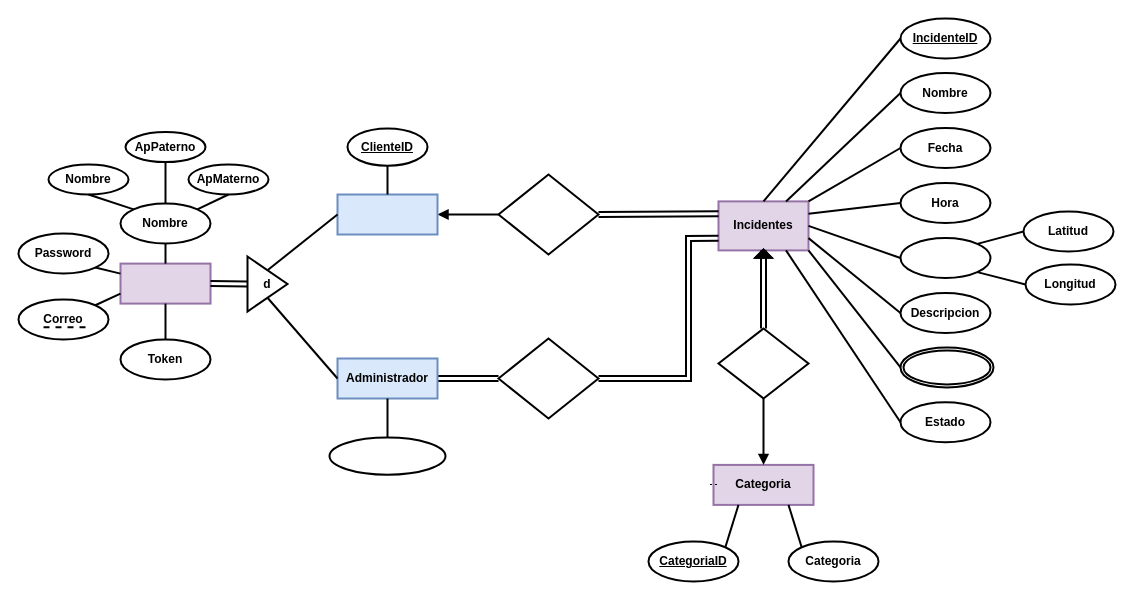
Some shapes in this 1133 by 599 pixel diagram are drawn without their labels. The shapes that lost their labels are listed below. From the top down, each one's centre as x and y in pixels, then its label:
At pixel 387 214: "Cliente".
At pixel 548 214: "Agregar/Ver".
At pixel 945 257: "Ubicacion".
At pixel 165 283: "Usuarios".
At pixel 548 378: "Gestionar".
At pixel 763 363: "Tiene".
At pixel 946 367: "Foto".
At pixel 387 455: "AdministradorID".
